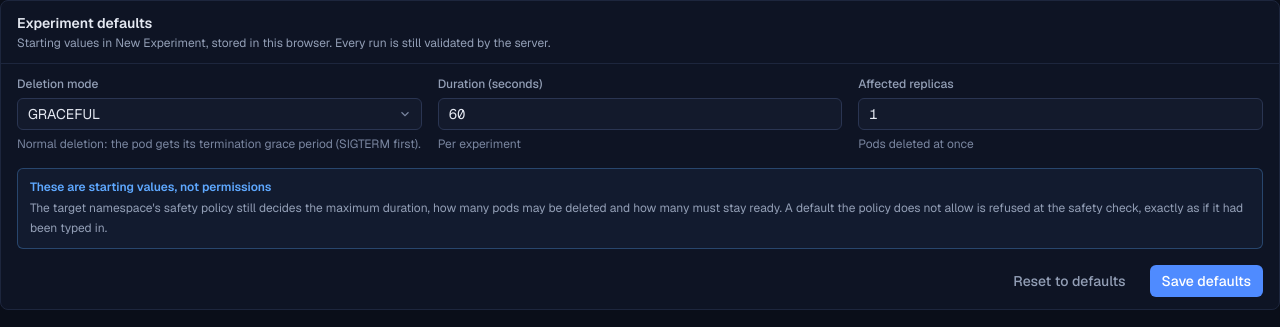
Test: Experiment defaults › saves valid values to this browser
Select "FORCE" in the dropdown labelled "Deletion mode". click: (219, 114)
box: [17,98,422,130]
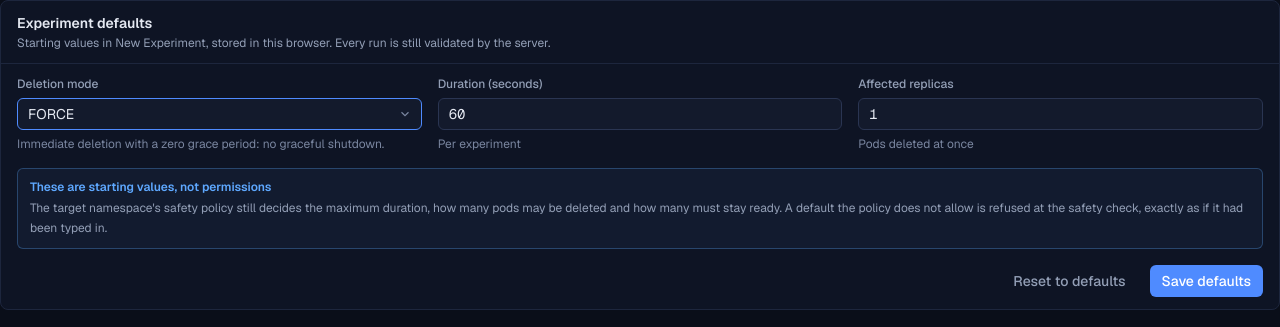
Replace the text in the number field labelled "Duration (seconds)" with "120". click: (640, 114)
box: [438,98,842,130]
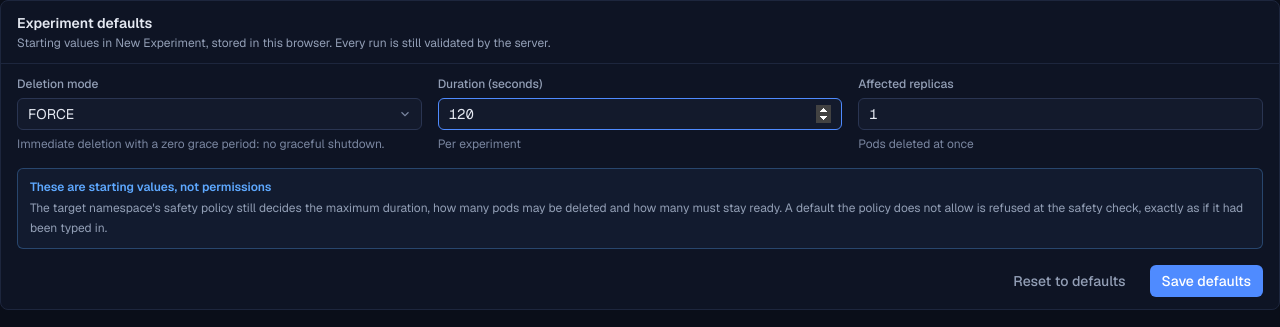
Click the button "Save defaults". click: (1206, 281)
box: [1150,265,1263,297]
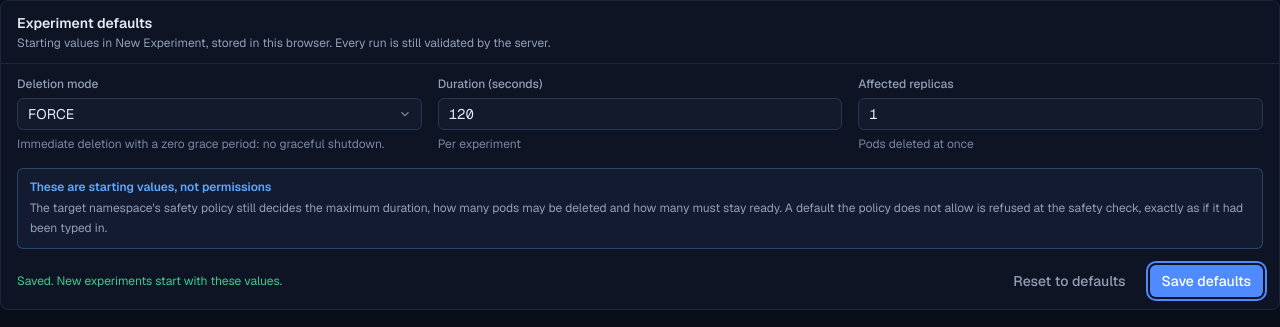
Now the message shows "Saved", box [17,273,282,289]
